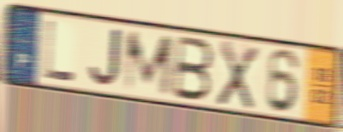6: (266, 48, 301, 117)
B: (171, 33, 216, 104)
J: (87, 28, 123, 90)
L: (42, 18, 77, 84)
M: (122, 30, 175, 98)
X: (215, 38, 261, 113)
